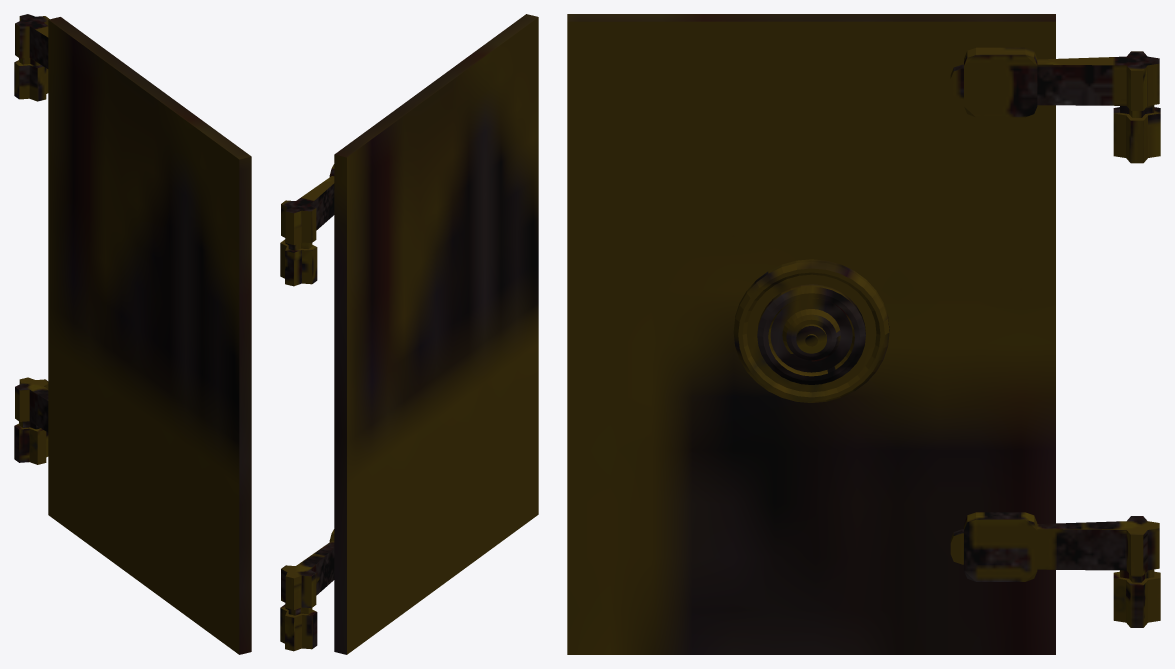
File: Caja_Fuerte_Puerta.obj
The picture shows the model from 3 angles, left to right: view 1: azimuth 30°, elevation 25°; view 2: azimuth 150°, elevation 25°; view 3: azimuth 270°, elevation 25°; orthographic projection. The views are drawn at different scales.
Visible parts, largest first — view 1: Cube.001_Cube.001, Cube.003_Cube.001, Cube.002_Cube.001; view 2: Cube.001_Cube.001, Cube.003_Cube.001, Cube.002_Cube.001; view 3: Cube.001_Cube.001, Circle.001, Cube.002_Cube.001, Cube.003_Cube.001.
Part boxes in pixels (x1,y1,x2,y2): Cube.001_Cube.001: [48, 17, 251, 654]; Cube.003_Cube.001: [14, 377, 48, 464]; Cube.002_Cube.001: [14, 14, 49, 101]; Cube.001_Cube.001: [334, 14, 538, 654]; Cube.003_Cube.001: [280, 529, 334, 651]; Cube.002_Cube.001: [280, 164, 334, 286]; Cube.001_Cube.001: [567, 14, 1055, 654]; Circle.001: [733, 259, 889, 402]; Cube.002_Cube.001: [950, 47, 1160, 163]; Cube.003_Cube.001: [950, 512, 1160, 627].
Bounding box in the file's own units: 0.0218 × 0.3215 × 0.273.
Materials: 1 (1 with a texture image).
